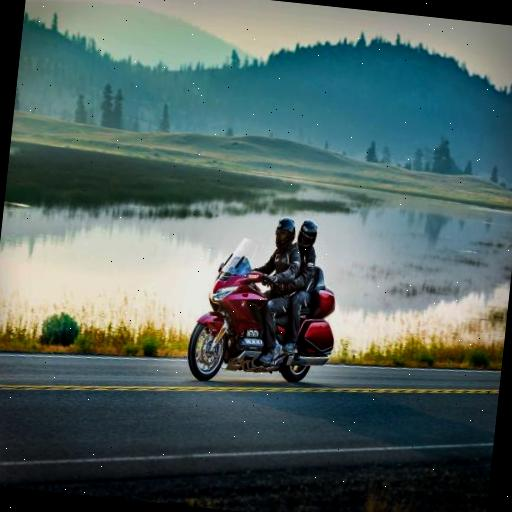helmet: (252, 208, 301, 284)
